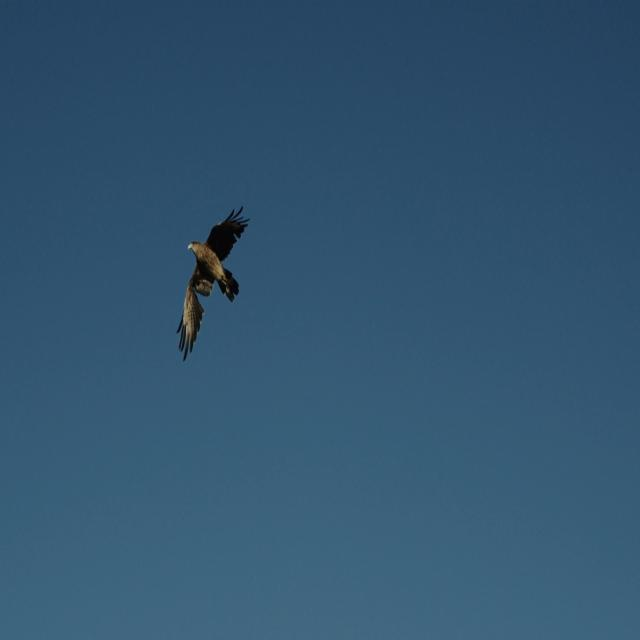bird: (167, 202, 251, 362)
